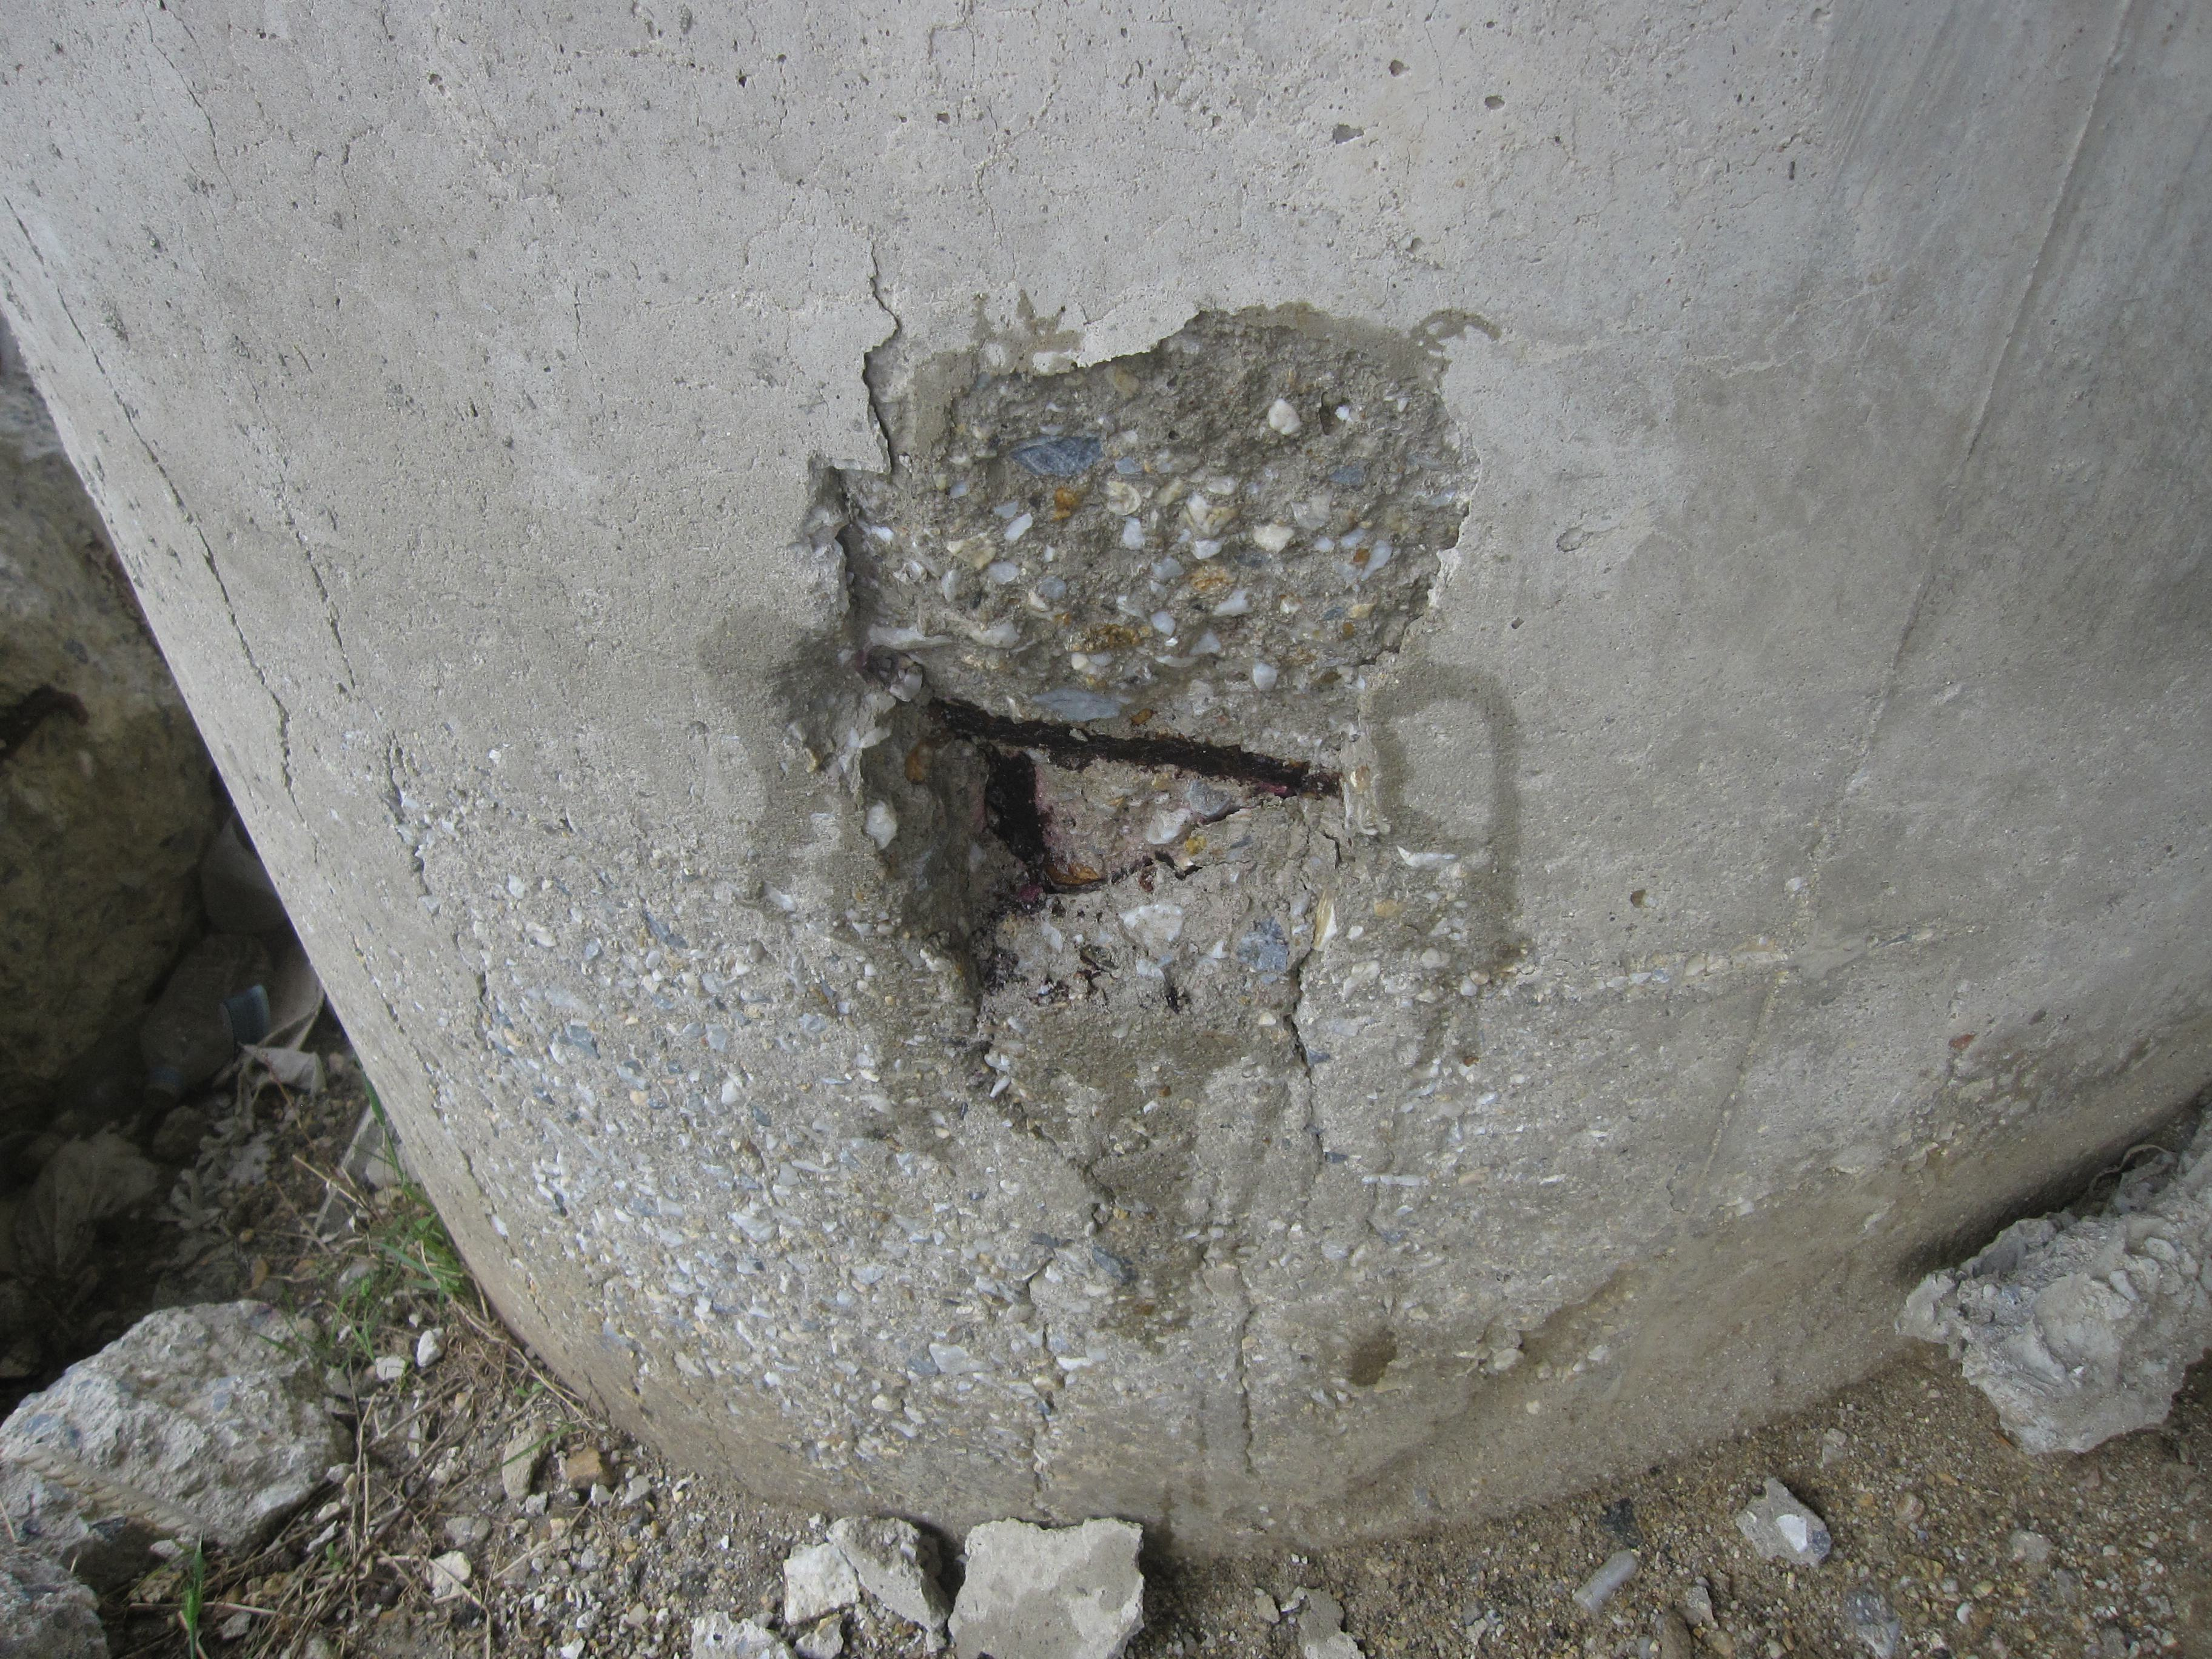Crack: (16, 181, 305, 828), (347, 929, 615, 1420), (982, 1058, 1116, 1516), (272, 481, 355, 688), (1285, 911, 1324, 1188), (860, 240, 900, 472), (1237, 1263, 1254, 1476)
Exposed reinforcement: (927, 697, 1341, 802), (977, 742, 1040, 861)
Spalling: (759, 296, 1482, 1194)
